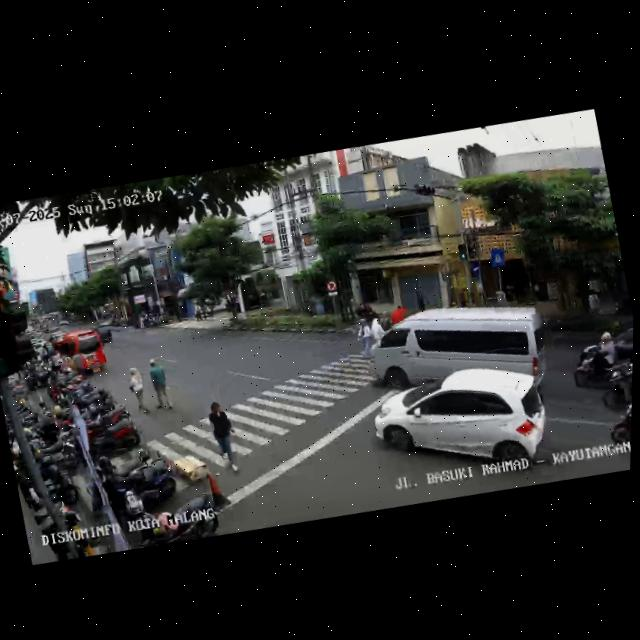car: (358, 280, 555, 427), (365, 352, 552, 502), (47, 323, 110, 385)
motorcycle: (564, 321, 634, 396), (590, 348, 633, 415), (602, 393, 632, 455)
person: (200, 396, 245, 477), (144, 355, 177, 419), (124, 362, 154, 420), (353, 317, 374, 360), (367, 316, 387, 349)
